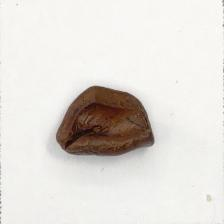NG: (56, 85, 156, 158)
